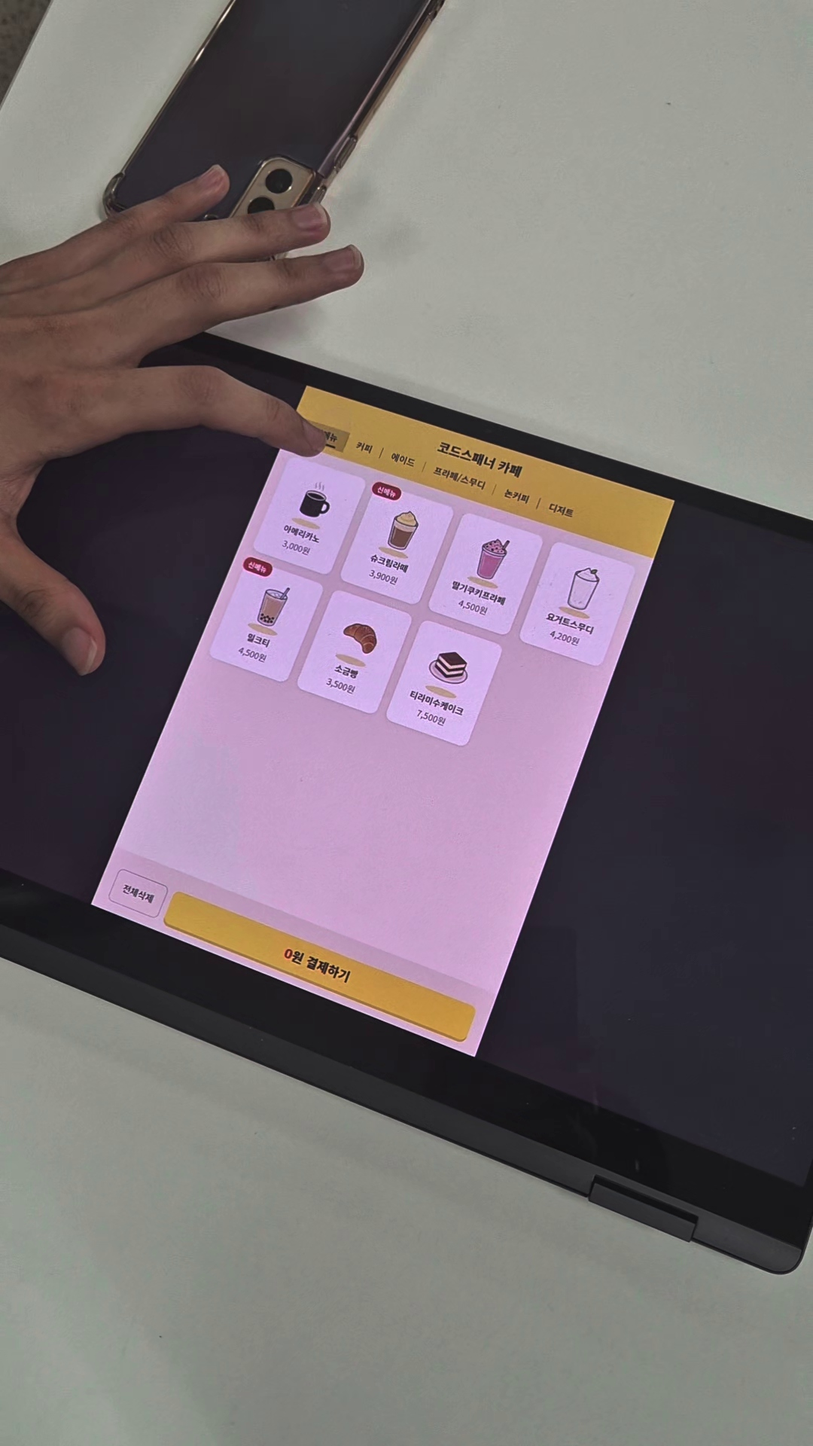action_button: (161, 888, 480, 1046), (100, 865, 173, 924)
category_tab: (428, 462, 491, 495), (386, 446, 423, 474), (498, 485, 538, 510), (347, 434, 382, 459), (544, 499, 580, 523)
menu_back: (322, 479, 462, 619), (287, 580, 420, 722), (377, 611, 508, 752), (510, 536, 640, 676), (200, 550, 329, 691), (416, 507, 550, 642), (240, 448, 370, 581)
menu_name: (399, 683, 470, 722), (443, 575, 511, 612), (540, 605, 600, 641), (361, 546, 415, 580), (273, 518, 327, 551), (237, 626, 277, 656), (328, 659, 366, 684)
menu_price: (540, 626, 585, 652), (450, 594, 492, 620), (274, 536, 314, 561), (362, 565, 401, 590), (581, 673, 582, 674)
